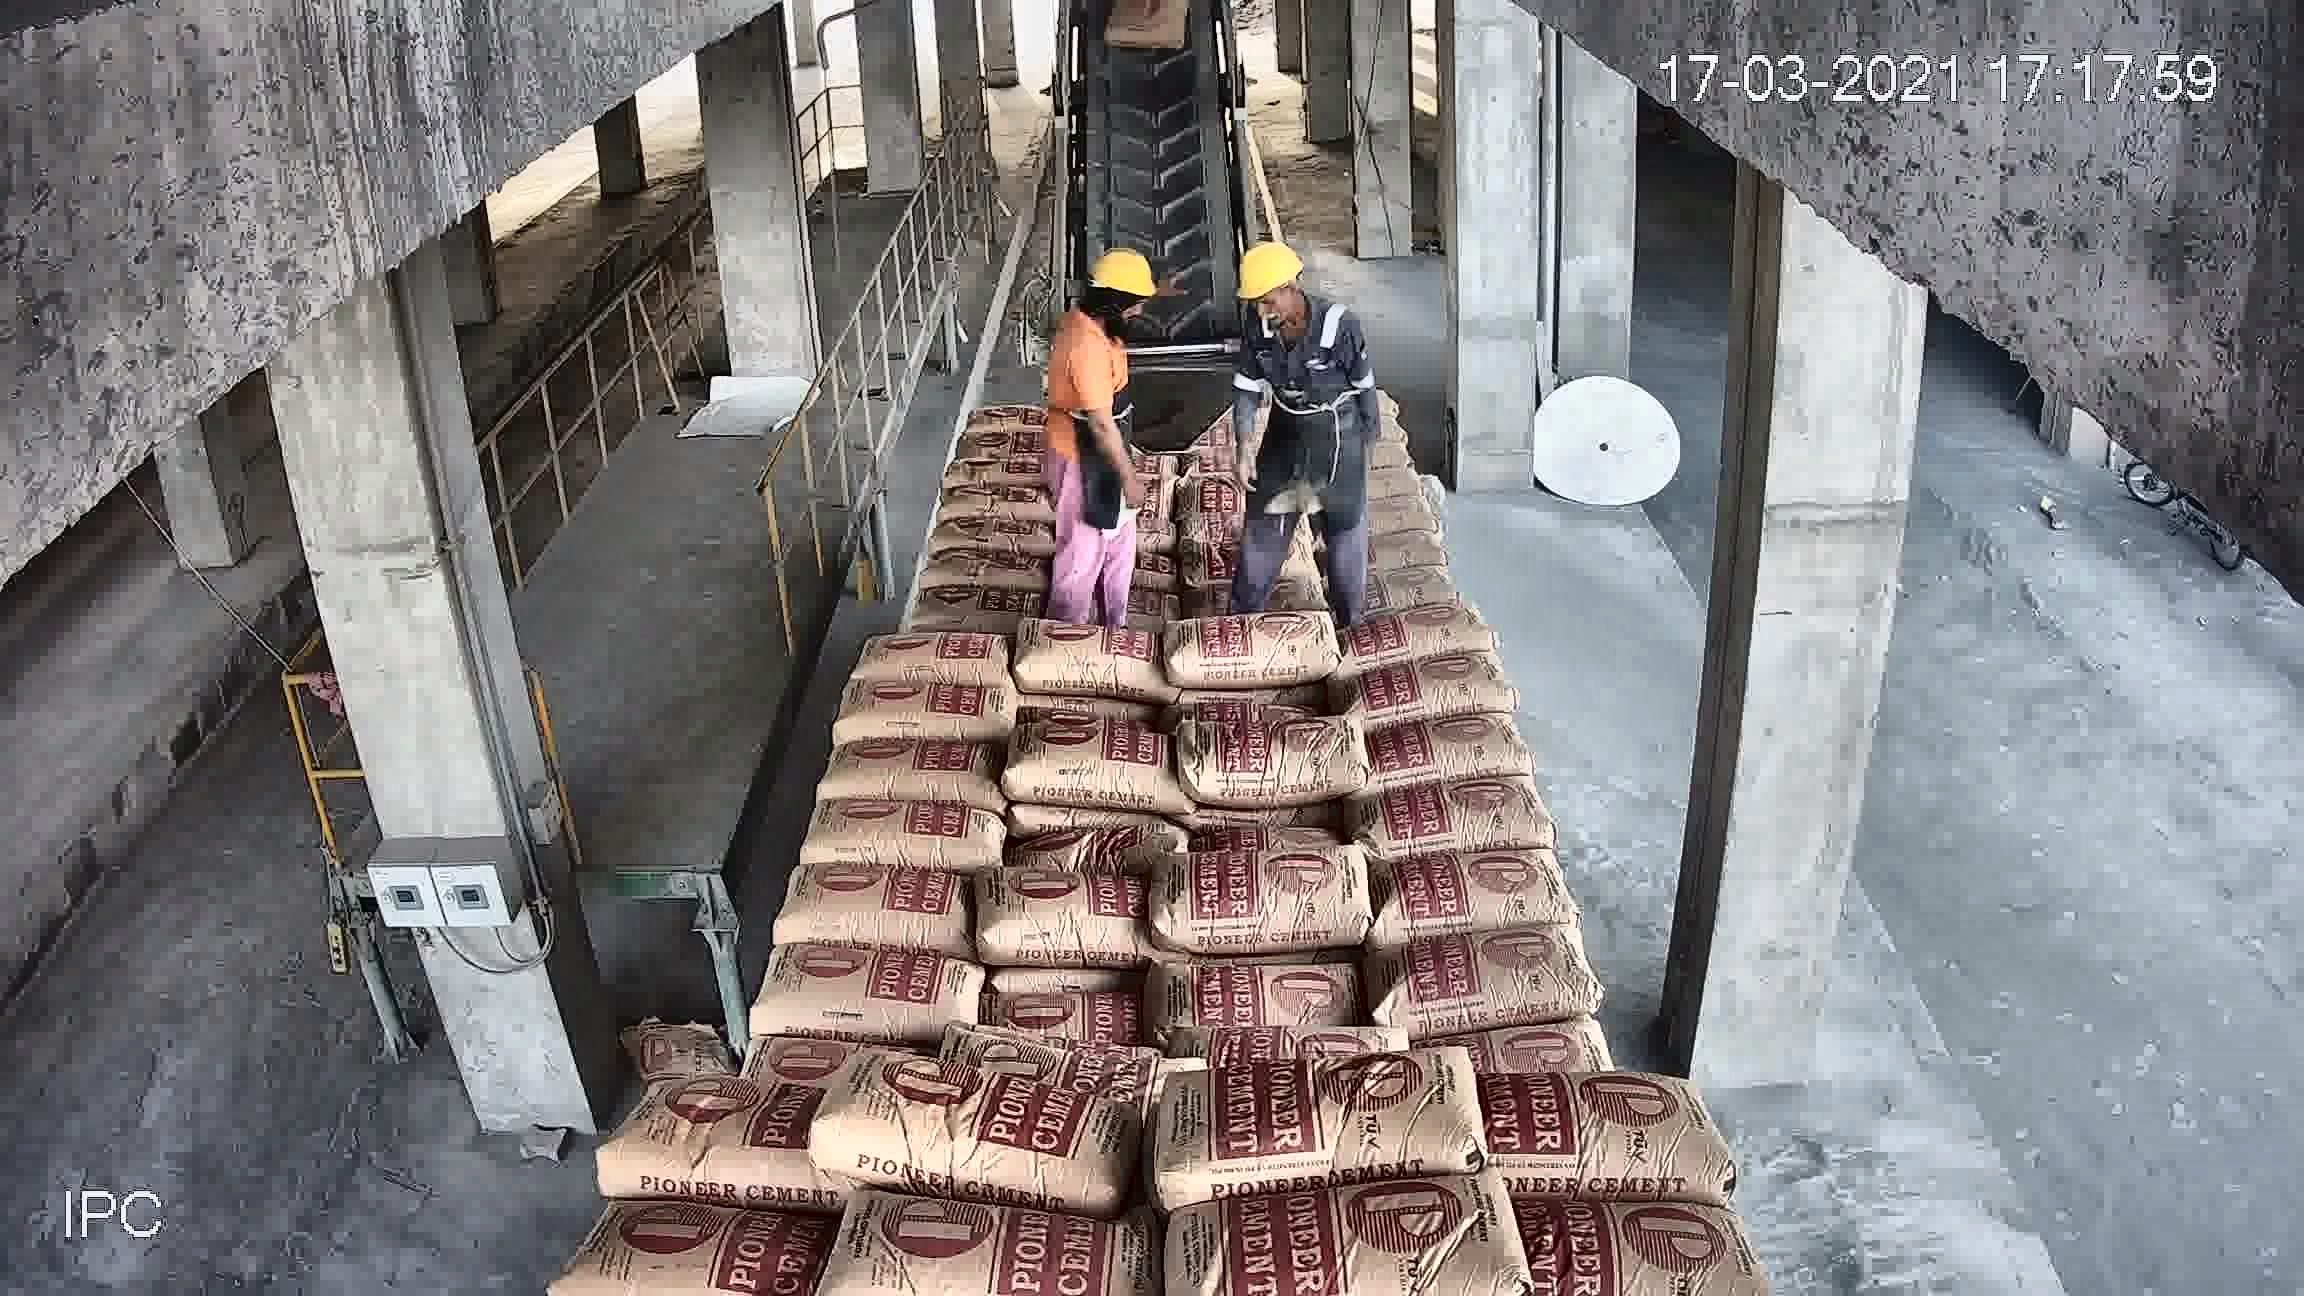bag_h: (1146, 1041, 1494, 1203), (801, 1057, 1143, 1204), (1166, 1177, 1506, 1291), (1487, 1078, 1745, 1217), (831, 1198, 1149, 1294), (585, 1071, 818, 1203), (1370, 915, 1608, 1035), (1521, 1192, 1772, 1296), (1146, 839, 1367, 953), (747, 942, 983, 1048), (540, 1203, 821, 1285), (1358, 847, 1571, 940), (760, 859, 965, 948), (1187, 714, 1370, 812), (1362, 779, 1559, 870), (1146, 954, 1353, 1033), (1005, 720, 1177, 813), (815, 726, 1010, 805), (790, 801, 1005, 872), (942, 1025, 1157, 1097), (968, 881, 1144, 967), (1328, 652, 1518, 723), (1021, 614, 1158, 711), (1173, 1013, 1412, 1067), (1169, 609, 1339, 684), (1459, 1010, 1617, 1089), (834, 674, 1017, 741), (1366, 714, 1532, 783), (980, 975, 1143, 1044), (1013, 817, 1184, 878), (1337, 609, 1491, 673), (855, 617, 1000, 684), (913, 552, 1055, 598), (935, 441, 1054, 495), (915, 510, 1059, 552), (896, 584, 1033, 625), (916, 481, 1067, 517), (1361, 567, 1465, 616), (1359, 524, 1435, 576), (953, 419, 1049, 457), (956, 399, 1033, 434)
belt: (1043, 43, 1249, 437)
